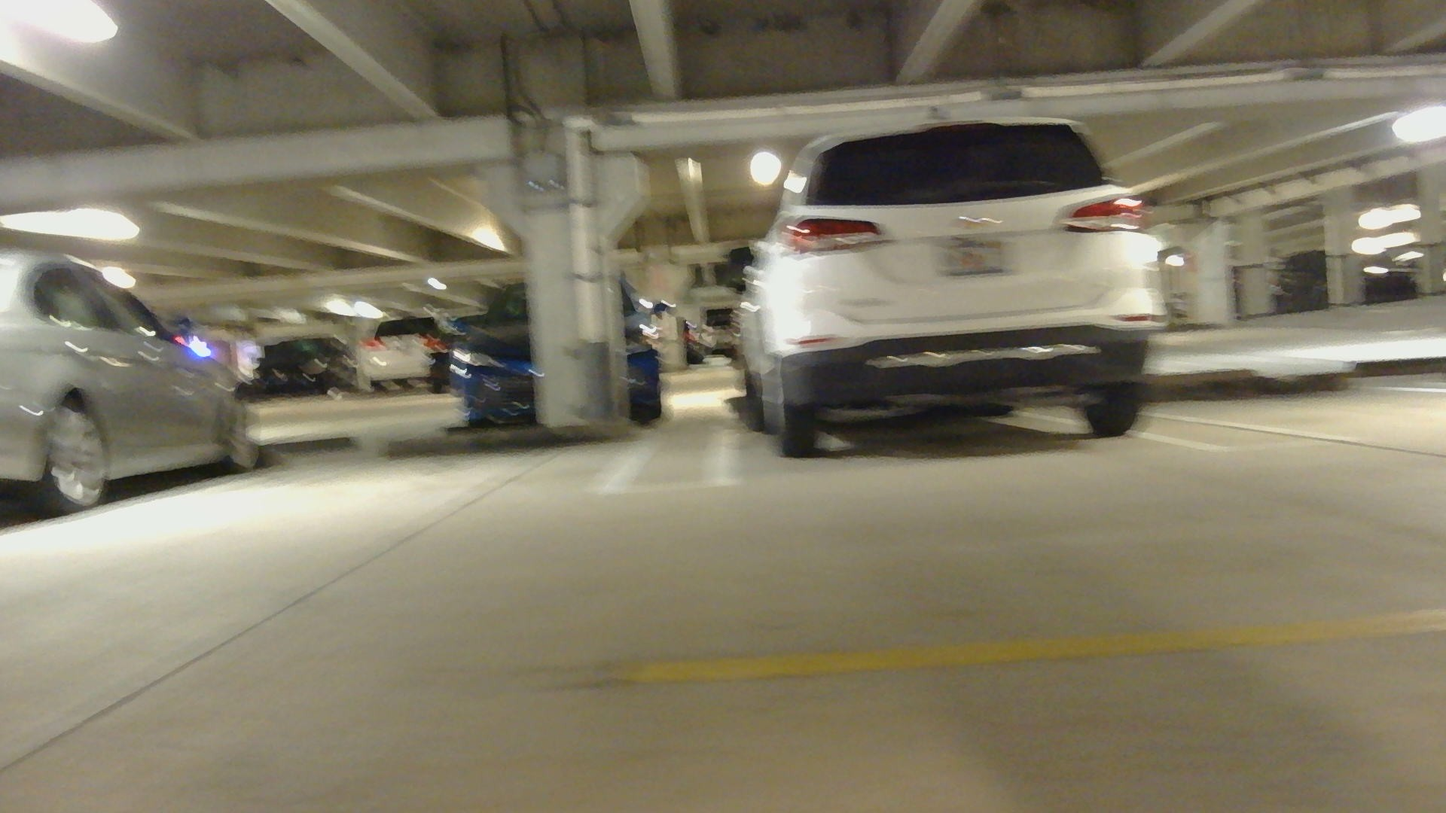empty_spot: (69, 433, 665, 545), (1140, 323, 1446, 470)
occupied_spot: (715, 97, 1177, 473), (0, 247, 266, 528)
